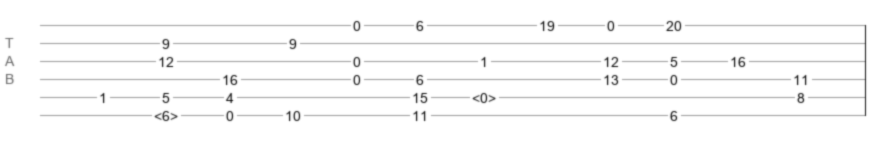0: (226, 108, 234, 118), (353, 54, 361, 64), (353, 72, 361, 82), (353, 18, 361, 28), (607, 18, 615, 28), (670, 72, 678, 82)
1: (99, 90, 107, 100), (480, 54, 488, 64)
10: (285, 108, 301, 118)
11: (412, 108, 428, 118), (793, 72, 809, 82)
12: (158, 54, 174, 64), (603, 54, 619, 64)
13: (603, 72, 619, 82)
15: (412, 90, 428, 100)
16: (222, 72, 238, 82), (730, 54, 746, 64)
19: (539, 18, 555, 28)
20: (666, 18, 682, 28)
4: (226, 90, 234, 100)
5: (162, 90, 170, 100), (670, 54, 678, 64)
6: (416, 72, 424, 82), (416, 18, 424, 28), (670, 108, 678, 118)
8: (797, 90, 805, 100)
9: (162, 36, 170, 46), (289, 36, 297, 46)
harmonic: (154, 108, 178, 118), (472, 90, 496, 100)
